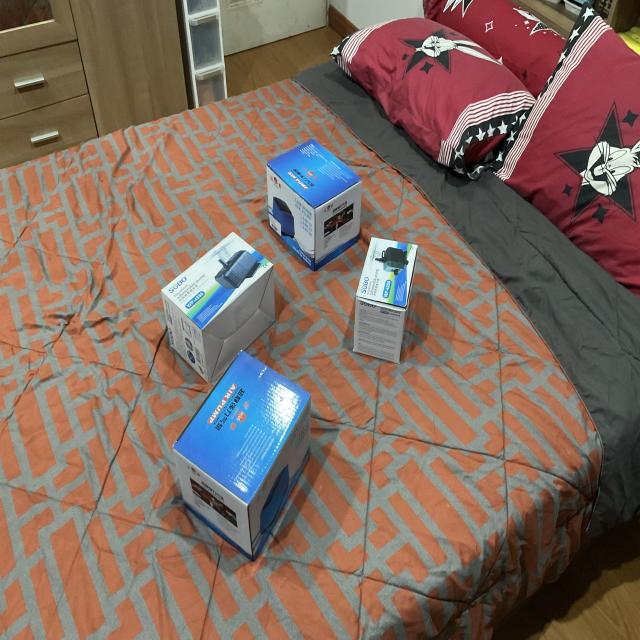SOBO_WP_4200: (152, 227, 283, 380), (341, 223, 422, 367)
YAMANO_LPP_20: (160, 346, 327, 559), (259, 124, 367, 266)
